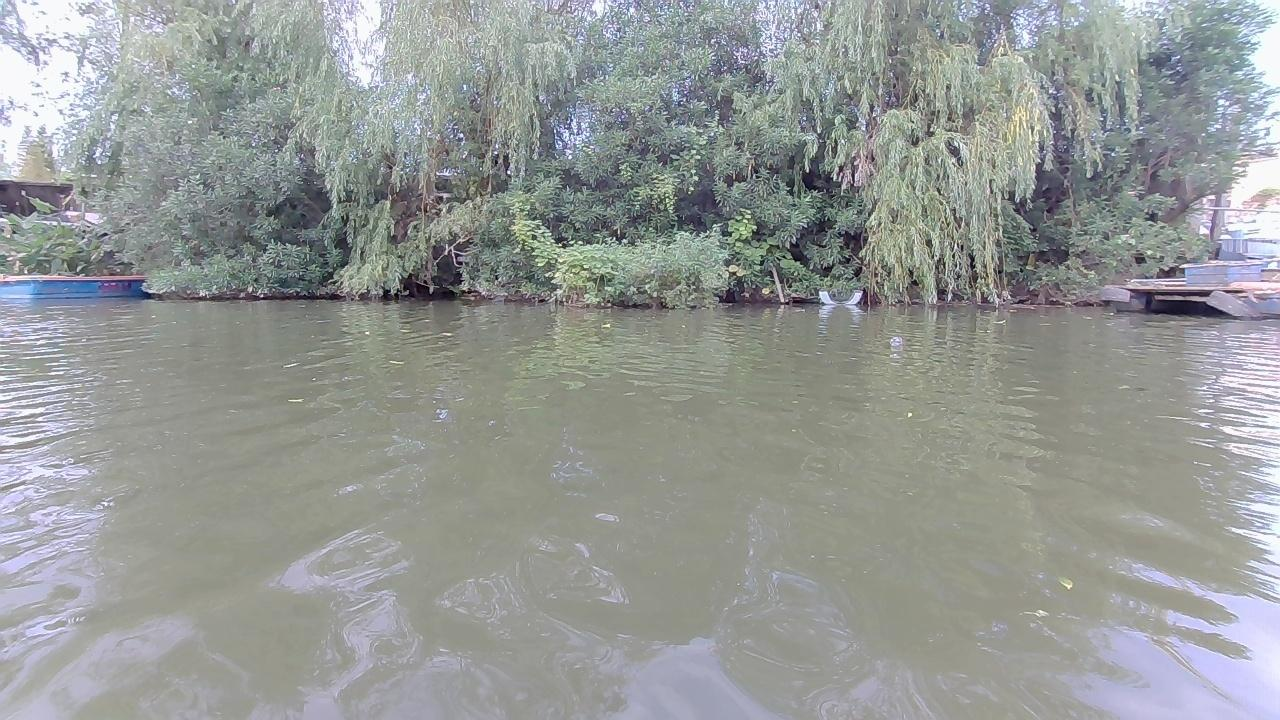bottle: (887, 334, 902, 350)
